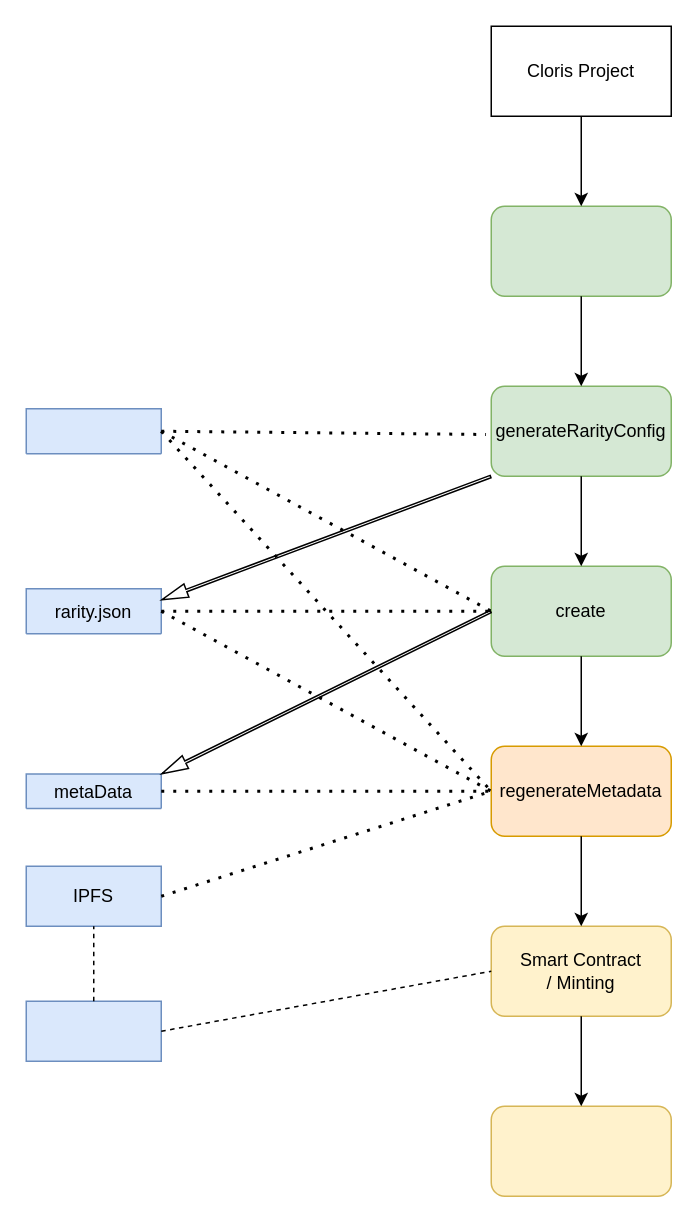
Image size: 698x1223. Some labels were removed from this diagram. The shapes that lost their labels are listed below. From the top down, each one's box as (x1, y1, x2, y2) in pixels, then its label:
(490, 205, 671, 296): Artwork
(25, 407, 161, 454): config.json
(25, 1000, 161, 1061): OpenSea
(490, 1105, 671, 1196): Front End
